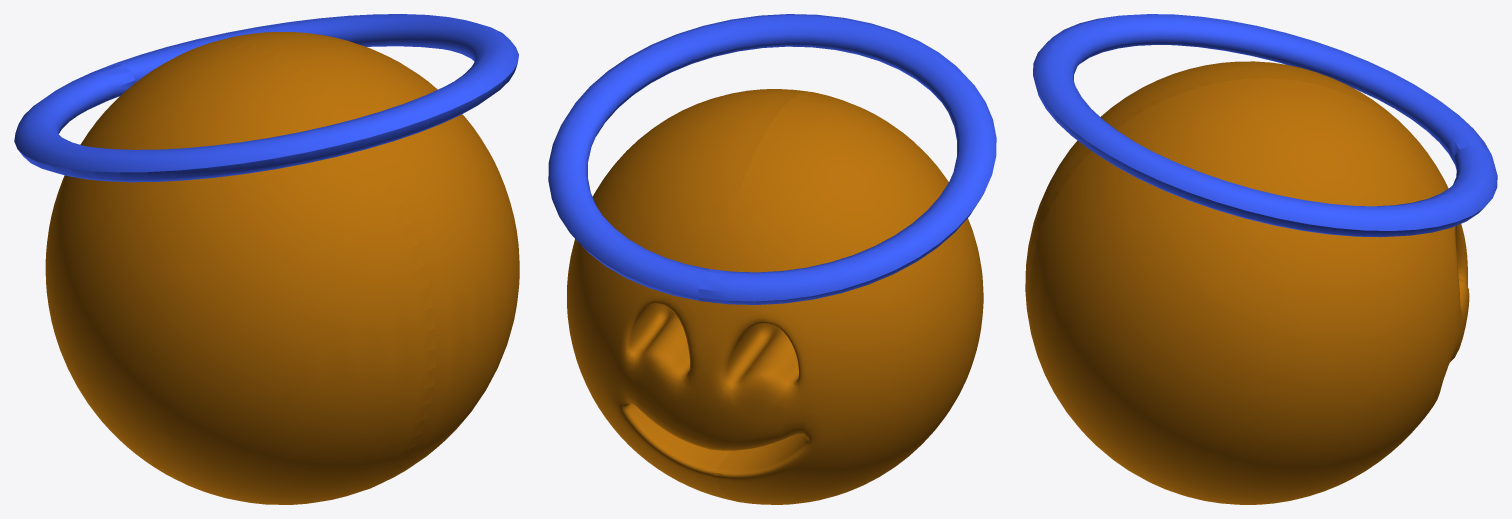
File: innocent.fbx
The picture shows the model from 3 angles, left to right: view 1: azimuth 30°, elevation 25°; view 2: azimuth 150°, elevation 25°; view 3: azimuth 270°, elevation 25°; orthographic projection. The views are drawn at different scales.
Visible parts, largest first — view 1: Group38964, Torus001; view 2: Group38964, Torus001; view 3: Group38964, Torus001.
Part boxes in pixels (bbox=[...]): Group38964: bbox=[45, 32, 519, 504]; Torus001: bbox=[14, 14, 518, 182]; Group38964: bbox=[567, 89, 983, 504]; Torus001: bbox=[548, 14, 996, 304]; Group38964: bbox=[1025, 61, 1469, 504]; Torus001: bbox=[1033, 14, 1497, 237].
Size of the model in its own units: 54.58 by 52.72 by 53.78.
